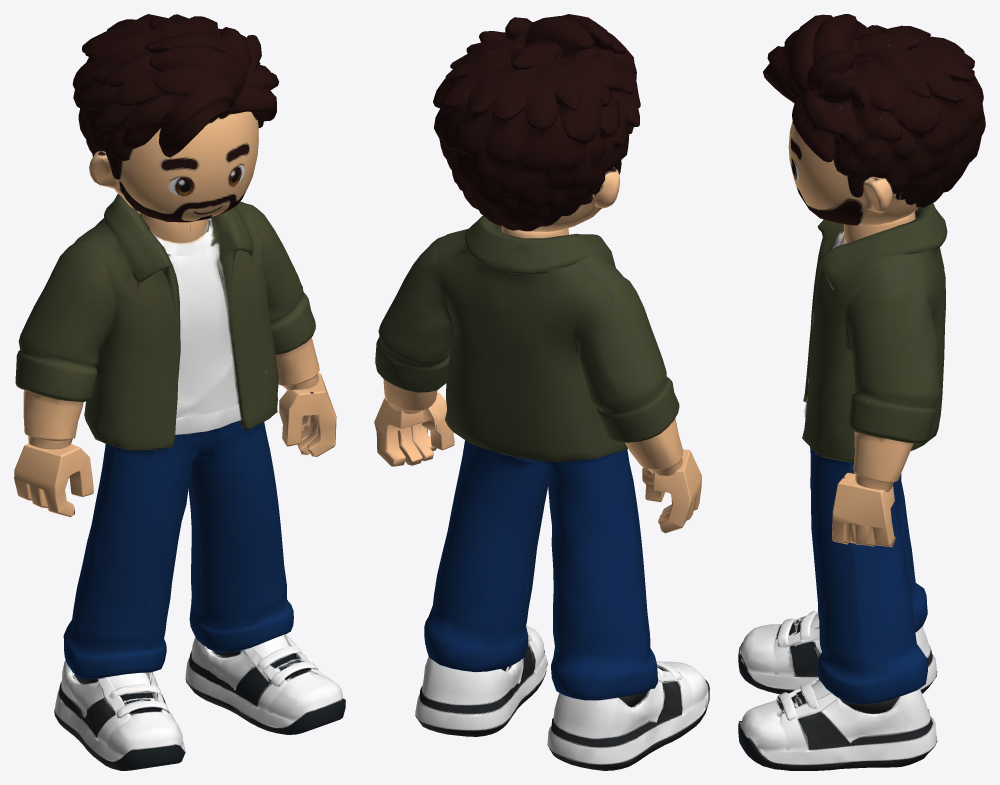
Rendered from explorer.glb.
The picture shows the model from 3 angles, left to right: view 1: azimuth 30°, elevation 25°; view 2: azimuth 150°, elevation 25°; view 3: azimuth 270°, elevation 25°; orthographic projection.
Size of the model in its own units: 0.4497 by 0.9507 by 0.3086.
Materials: 1 (1 with a texture image).
